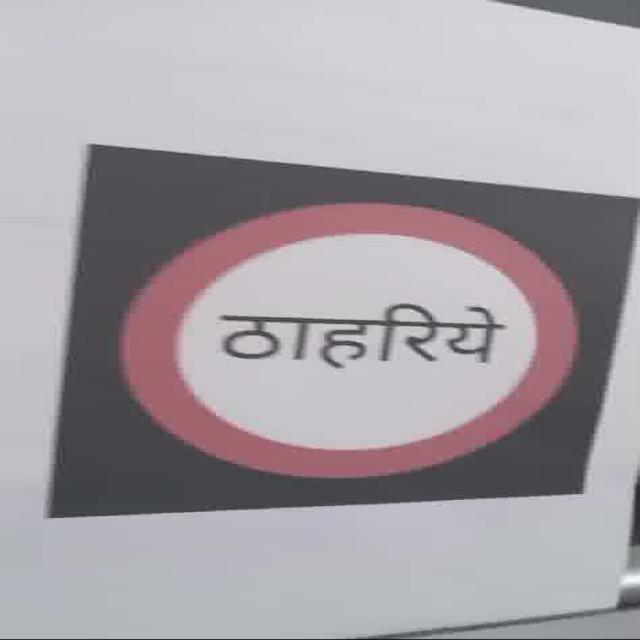hindistop: (46, 142, 637, 518), (215, 301, 508, 370)
